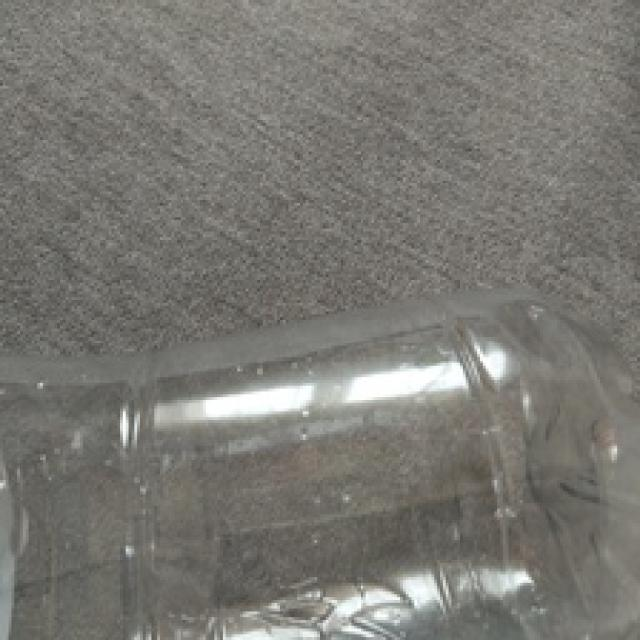Plastic: (0, 290, 640, 640)
